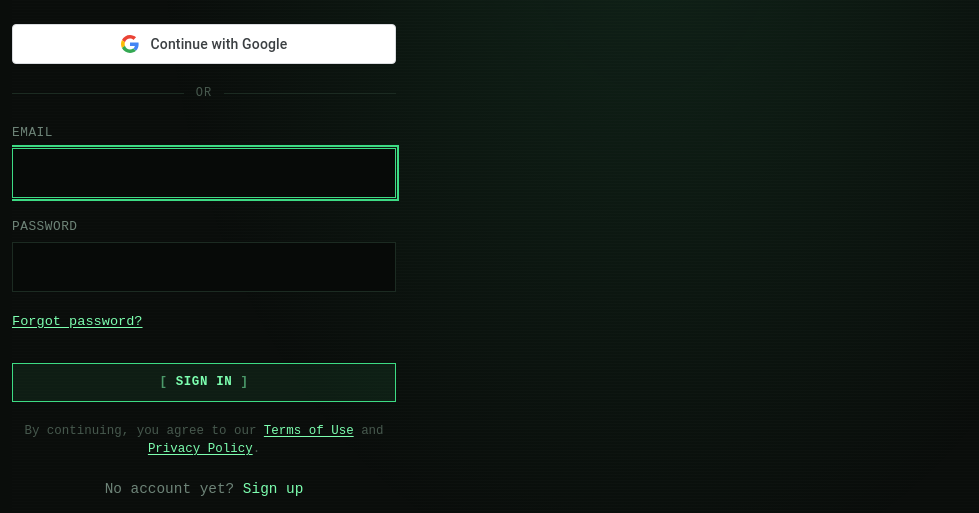
Test: AuthForm validation › shows verify-email state when sign-in requires verification
Type "user@example.com" into the field labelled "Email" at x=204, y=173, box [12,148,396,198]
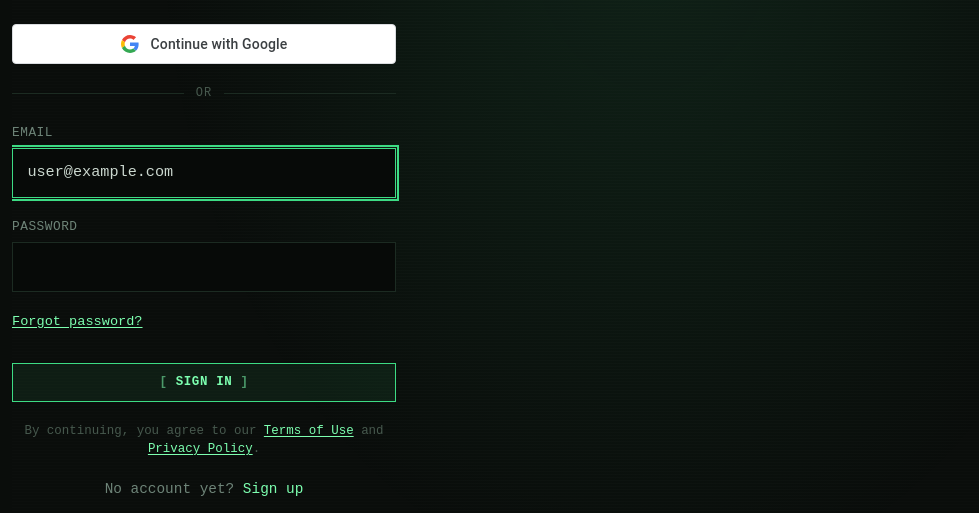
Type "GoodPass1" into the password field labelled "Password" at x=204, y=267, box [12,242,396,292]
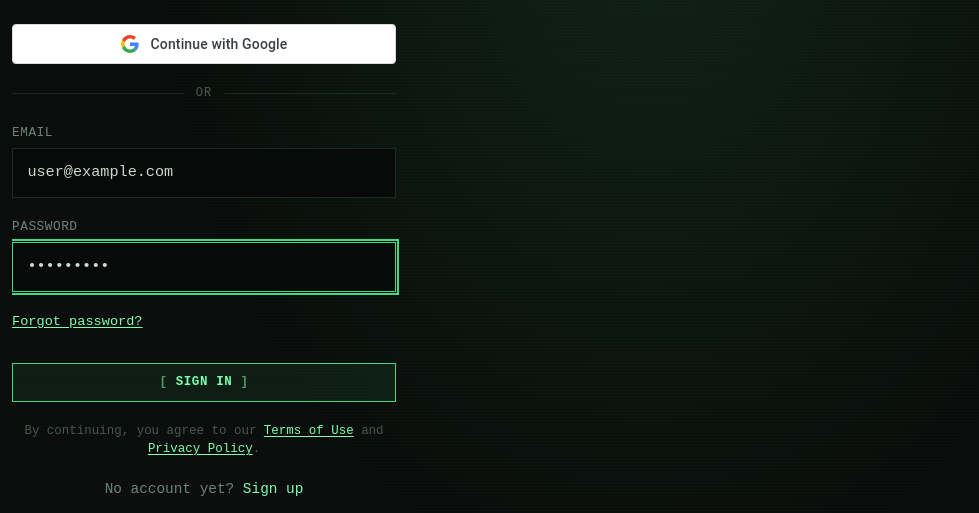
Click the button "Sign in" at x=204, y=382, box [12,363,396,402]
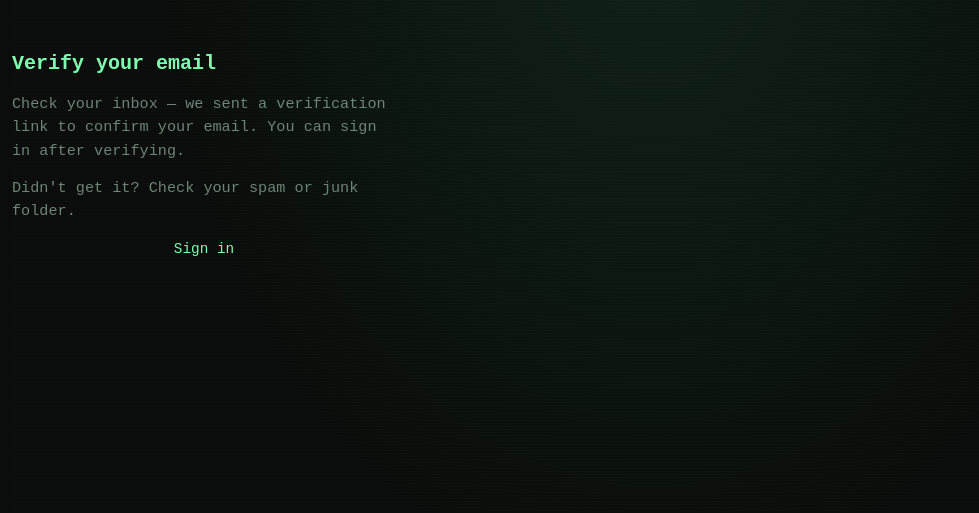
Expected: the heading "Verify your email" is shown, [12,52,216,75]
Expected: the text "Didn't get it? Check your spam or junk folder." is shown, [12,177,396,224]
